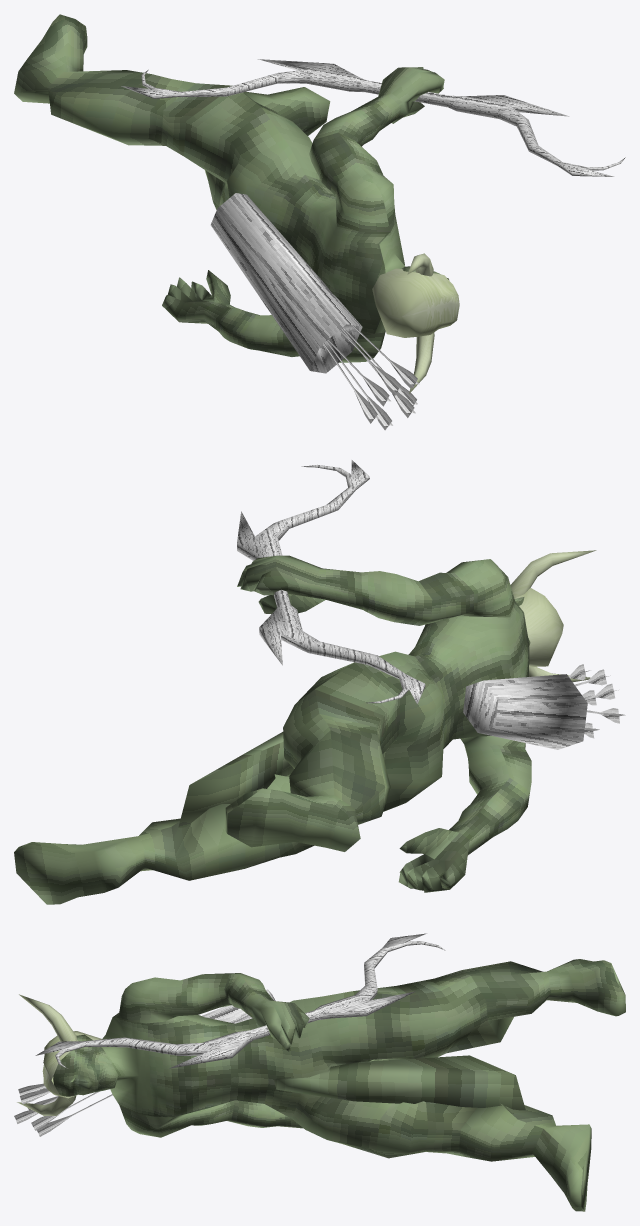
Rendered from meghnaad_000102.obj.
3 views of the same model, one above another, from view 1: azimuth 30°, elevation 25°; view 2: azimuth 150°, elevation 25°; view 3: azimuth 270°, elevation 25° (orthographic). The views are drawn at different scales.
Visible parts, largest first — view 1: body_mesh15-geometry, quiver_Cylinder, bow_Cylinder.001, hair_mesh18-geometry, horn.000_Cone; view 2: body_mesh15-geometry, quiver_Cylinder, bow_Cylinder.001, hair_mesh18-geometry, horn.000_Cone; view 3: body_mesh15-geometry, bow_Cylinder.001, quiver_Cylinder, horn.000_Cone, hair_mesh18-geometry.
Part boxes in pixels (bbox=[...]): body_mesh15-geometry: bbox=[14, 14, 448, 362]; quiver_Cylinder: bbox=[210, 193, 419, 430]; bow_Cylinder.001: bbox=[121, 59, 625, 176]; hair_mesh18-geometry: bbox=[372, 268, 459, 337]; horn.000_Cone: bbox=[407, 253, 434, 393]; body_mesh15-geometry: bbox=[14, 555, 531, 904]; quiver_Cylinder: bbox=[463, 664, 625, 749]; bow_Cylinder.001: bbox=[237, 460, 425, 704]; hair_mesh18-geometry: bbox=[514, 587, 563, 666]; horn.000_Cone: bbox=[510, 550, 596, 682]; body_mesh15-geometry: bbox=[53, 959, 625, 1211]; bow_Cylinder.001: bbox=[35, 933, 445, 1068]; quiver_Cylinder: bbox=[14, 989, 275, 1136]; horn.000_Cone: bbox=[17, 994, 77, 1116]; hair_mesh18-geometry: bbox=[42, 1031, 101, 1098].
Bounding box in the file's own units: 1.42 × 0.9572 × 2.49.
